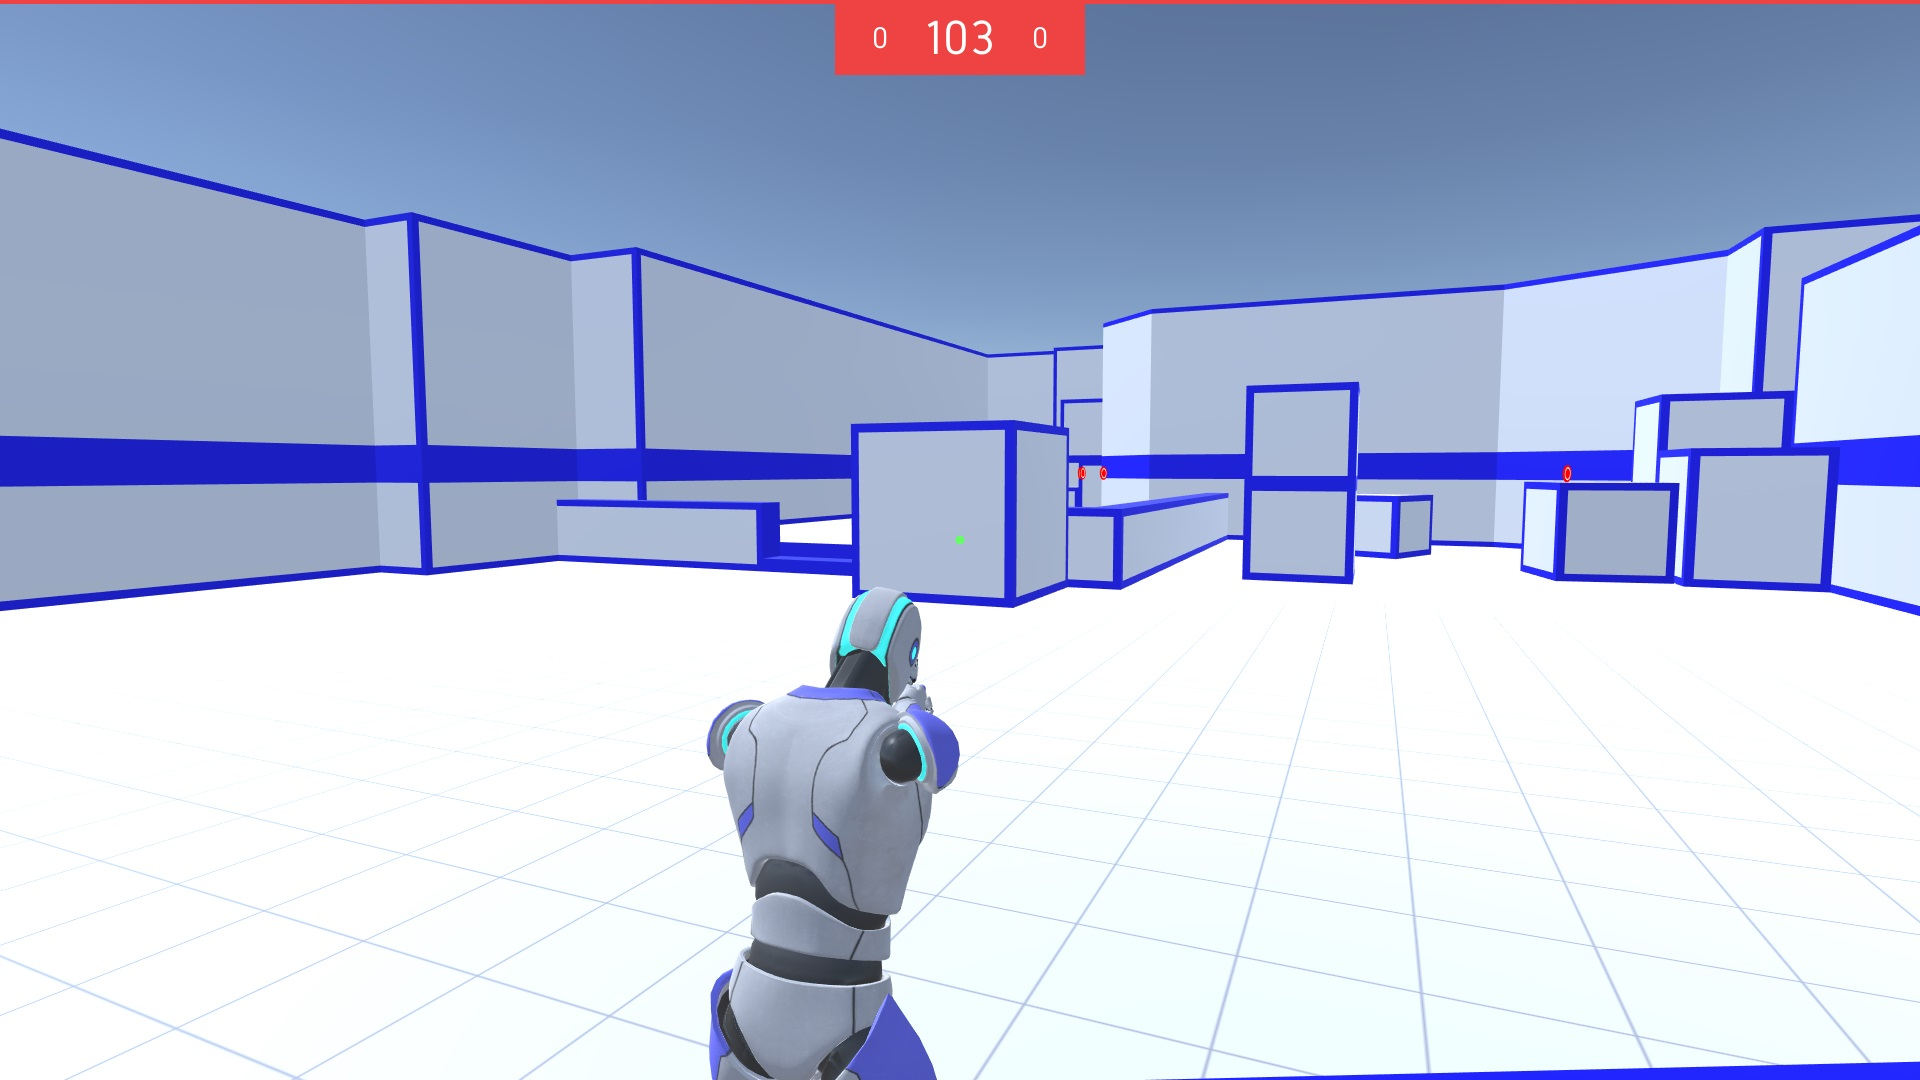Target: (1563, 464, 1572, 484), (1098, 465, 1108, 480), (1077, 465, 1085, 479)
